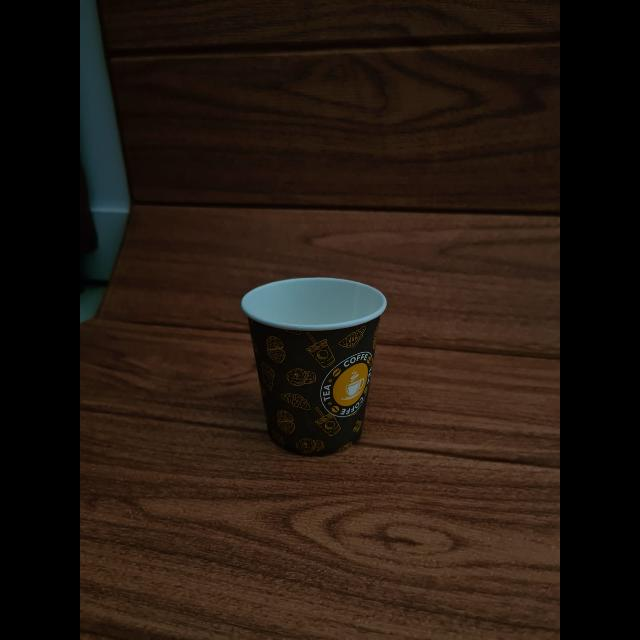trash: (241, 281, 389, 454)
